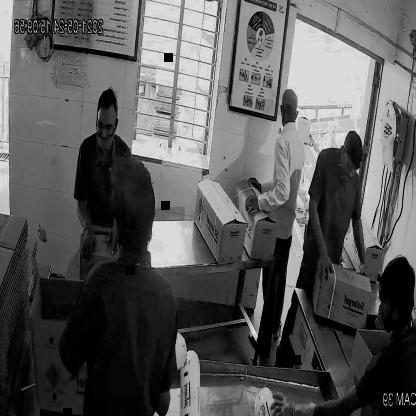goggles: (96, 112, 118, 140), (342, 153, 362, 175)
